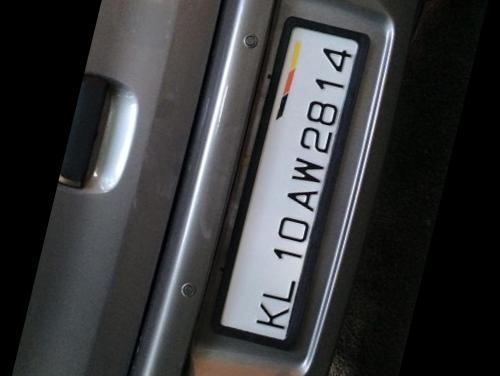plate: (214, 4, 381, 345)
